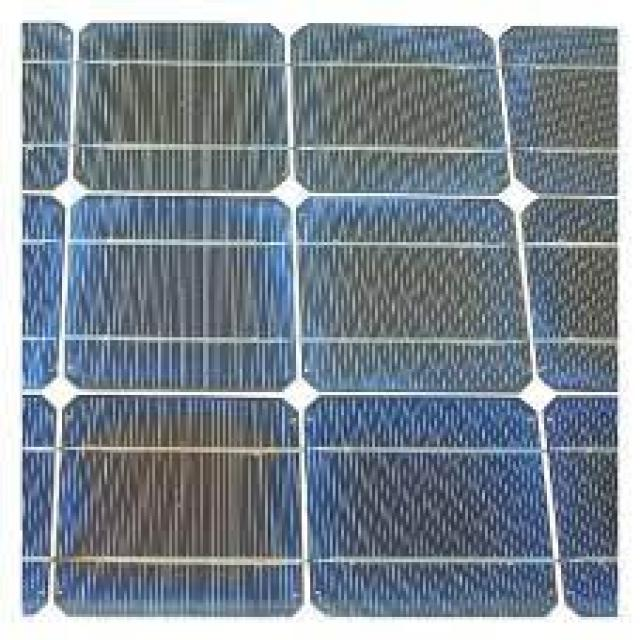faulty: (20, 26, 628, 623)
